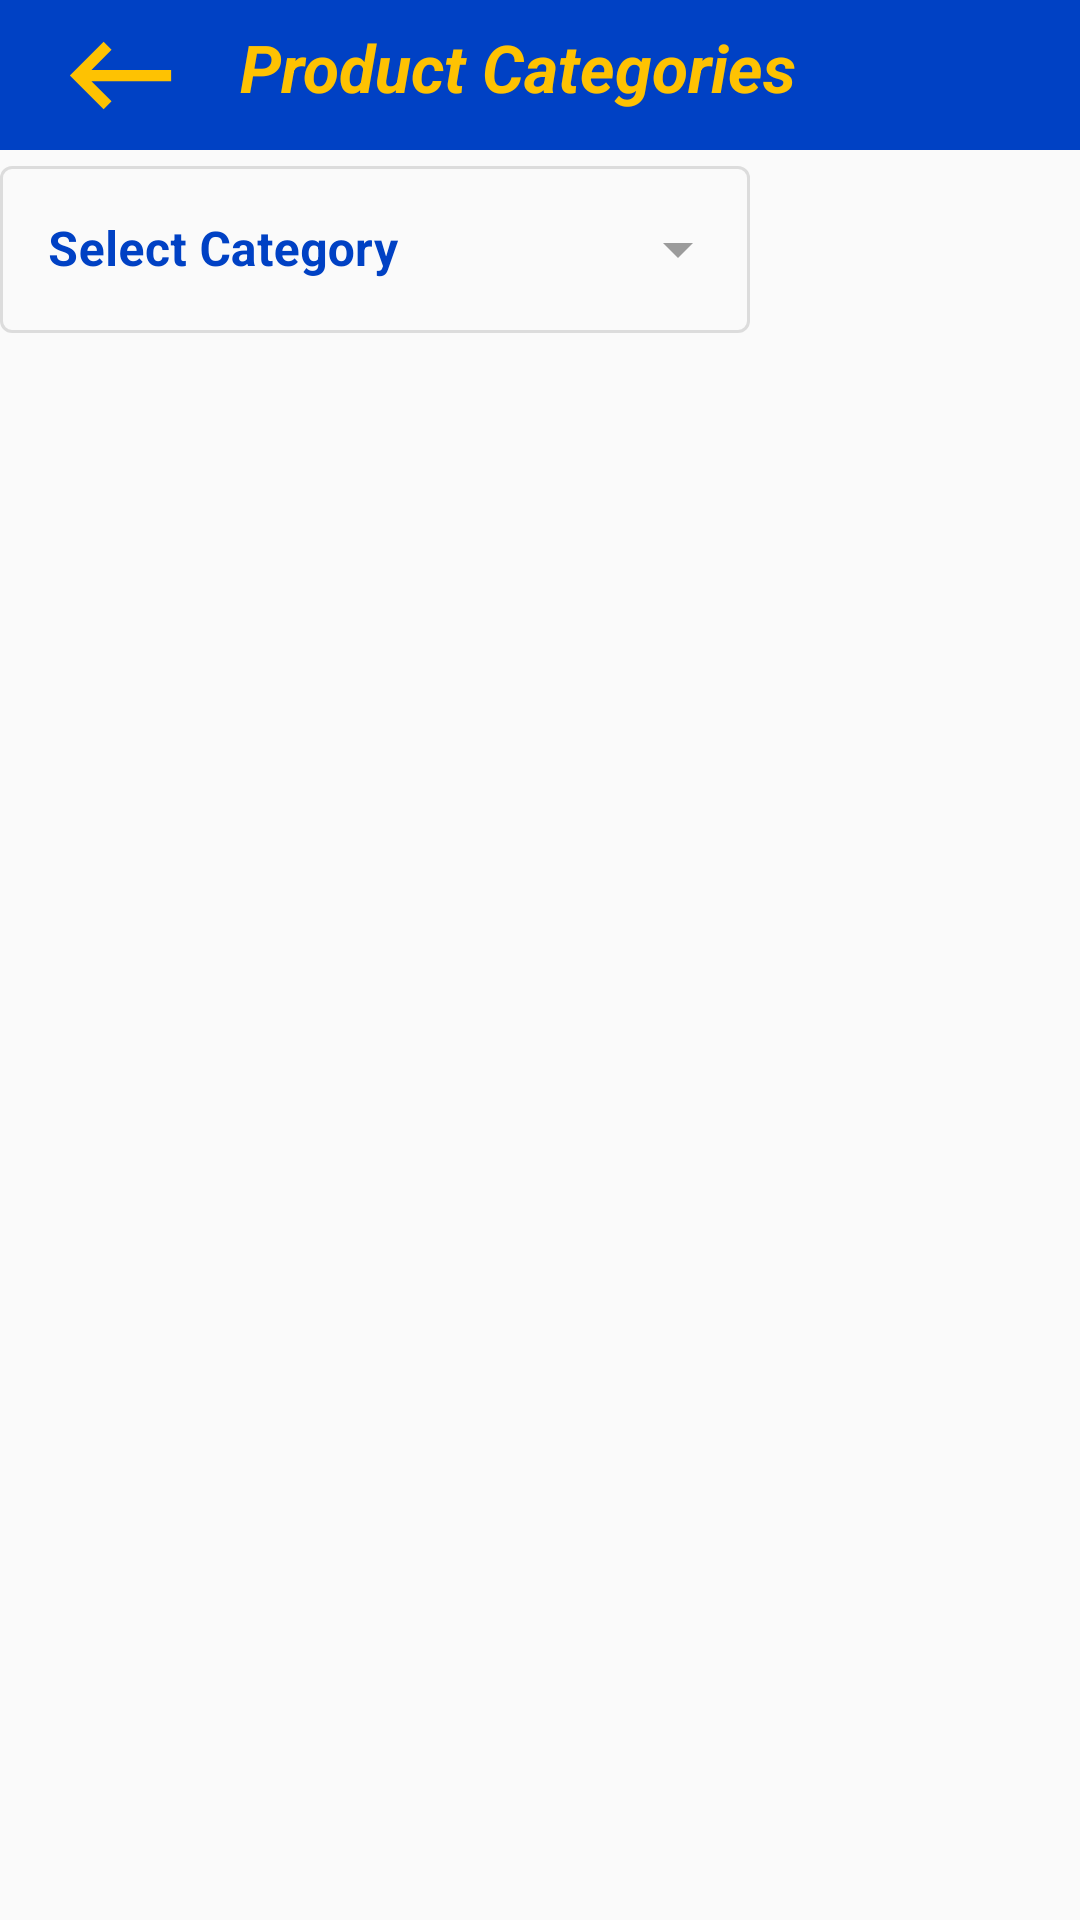

Screen size 1080px×1920px. Icon name, then its center in pixels as (x,y):
keyboard backspace: (121,75)
